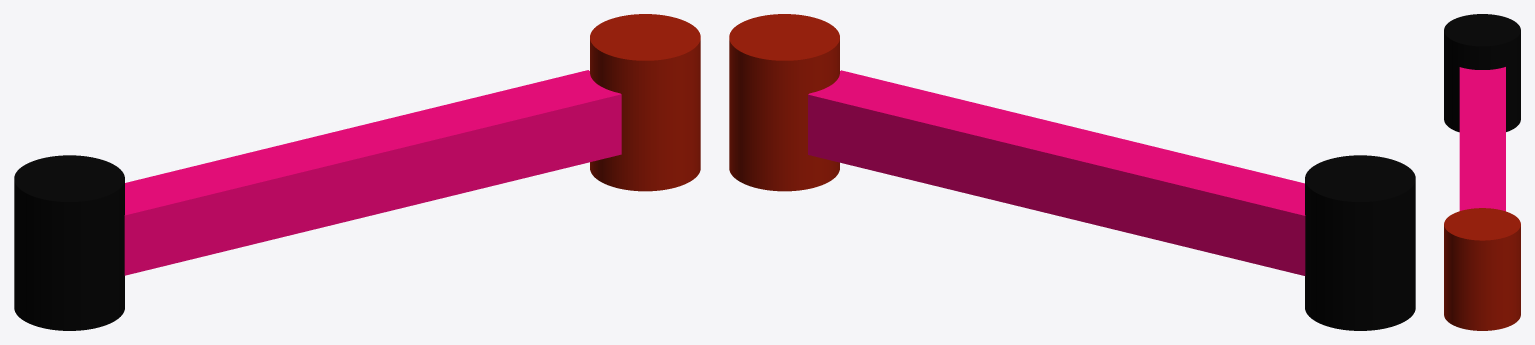
File: linkfour.obj
3 views of the same model, side by side, from view 1: azimuth 30°, elevation 25°; view 2: azimuth 150°, elevation 25°; view 3: azimuth 270°, elevation 25° (orthographic). The views are drawn at different scales.
Visible parts, largest first — view 1: Cube_Cube.004, Cylinder_Cylinder.002, Cylinder.001_Cylinder.003; view 2: Cube_Cube.004, Cylinder_Cylinder.002, Cylinder.001_Cylinder.003; view 3: Cylinder.001_Cylinder.003, Cube_Cube.004, Cylinder_Cylinder.002.
Part boxes in pixels (x1,y1,x2,y2): Cube_Cube.004: [124, 70, 621, 275]; Cylinder_Cylinder.002: [14, 155, 124, 330]; Cylinder.001_Cylinder.003: [590, 14, 700, 191]; Cube_Cube.004: [808, 70, 1305, 275]; Cylinder_Cylinder.002: [1305, 155, 1415, 330]; Cylinder.001_Cylinder.003: [729, 14, 839, 191]; Cylinder.001_Cylinder.003: [1444, 208, 1520, 330]; Cube_Cube.004: [1459, 67, 1505, 211]; Cylinder_Cylinder.002: [1444, 14, 1520, 132].
Size of the model in its own units: 350 by 65 by 50.
